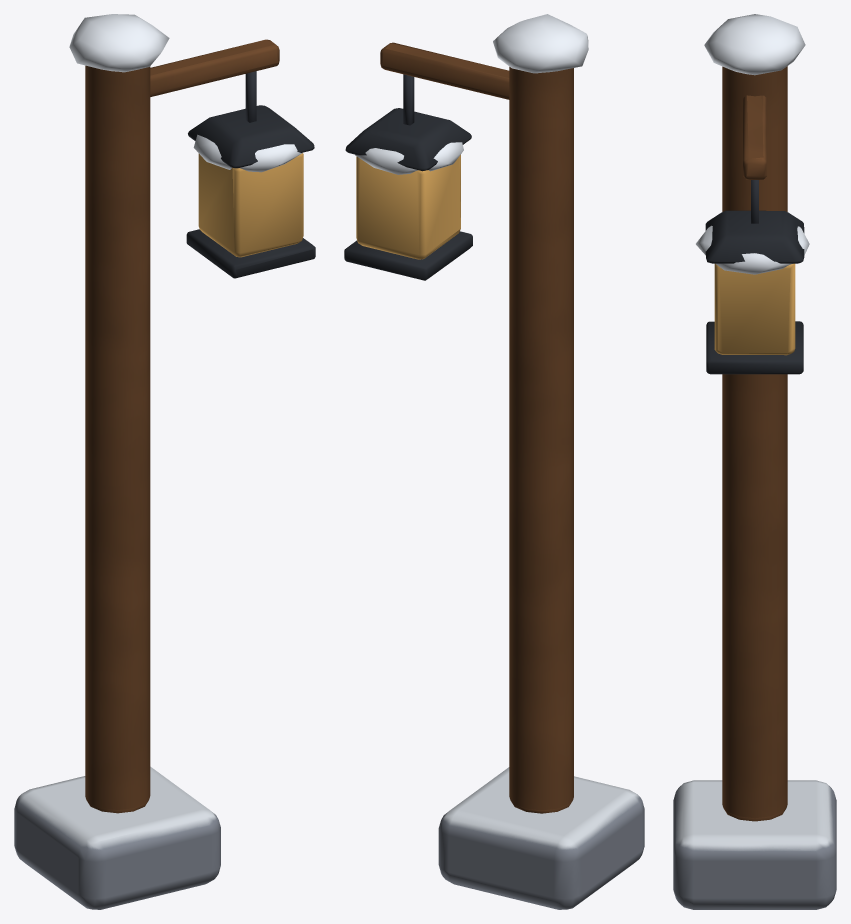
The model's file is lamp_post.glb.
3 renders of one model, left to right at view 1: azimuth 30°, elevation 25°; view 2: azimuth 150°, elevation 25°; view 3: azimuth 270°, elevation 25°, orthographic.
Visible parts, largest first — view 1: arm; view 2: arm; view 3: arm.
Boxes of the visible parts, x1,y1,x2,y2 form: arm: (14, 14, 315, 909); arm: (344, 14, 644, 909); arm: (673, 14, 836, 909).
Size of the model in its own units: 0.7119 by 2.32 by 0.4.
1 material, 1 textured.
